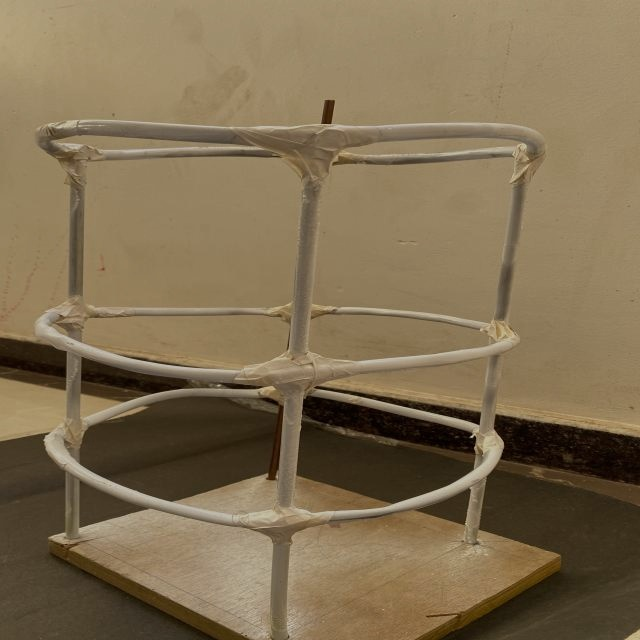silo: (31, 105, 549, 640)
